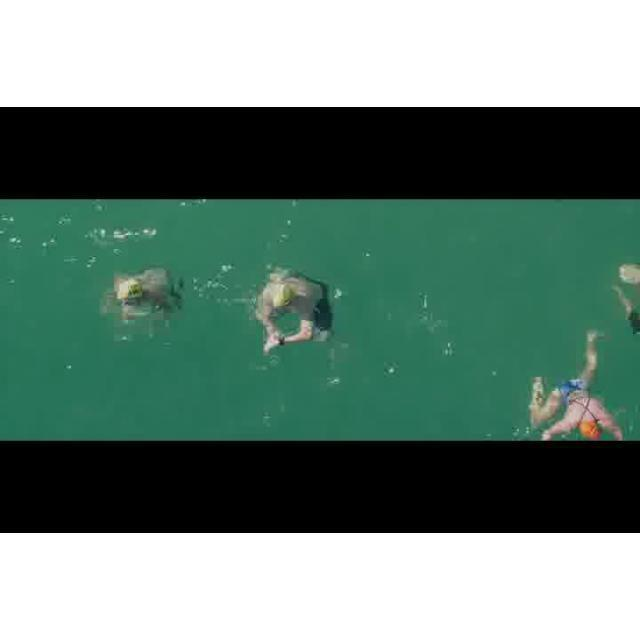human: (524, 323, 628, 443), (253, 263, 343, 355), (108, 266, 185, 332)
